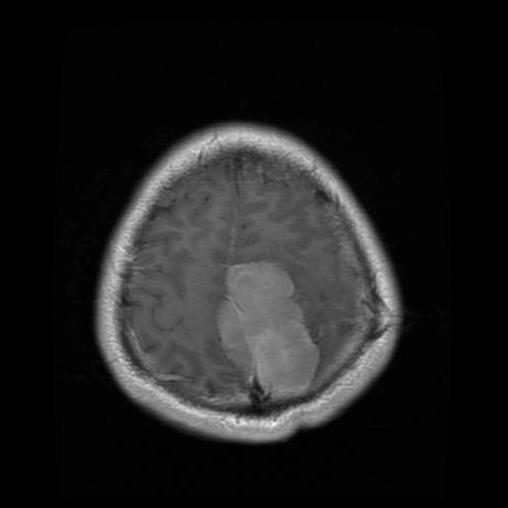Tumour-Meningioma: (203, 245, 326, 410)
